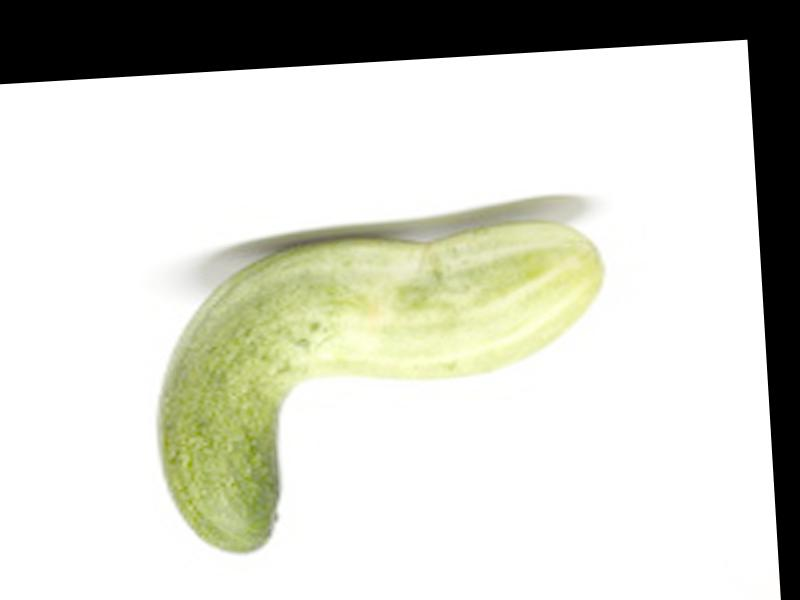Cucumber: (144, 214, 620, 558)
